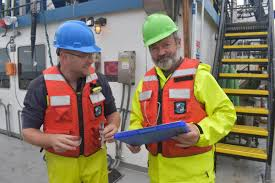Person_wearing_helmet: (52, 18, 103, 68), (143, 8, 185, 55)
